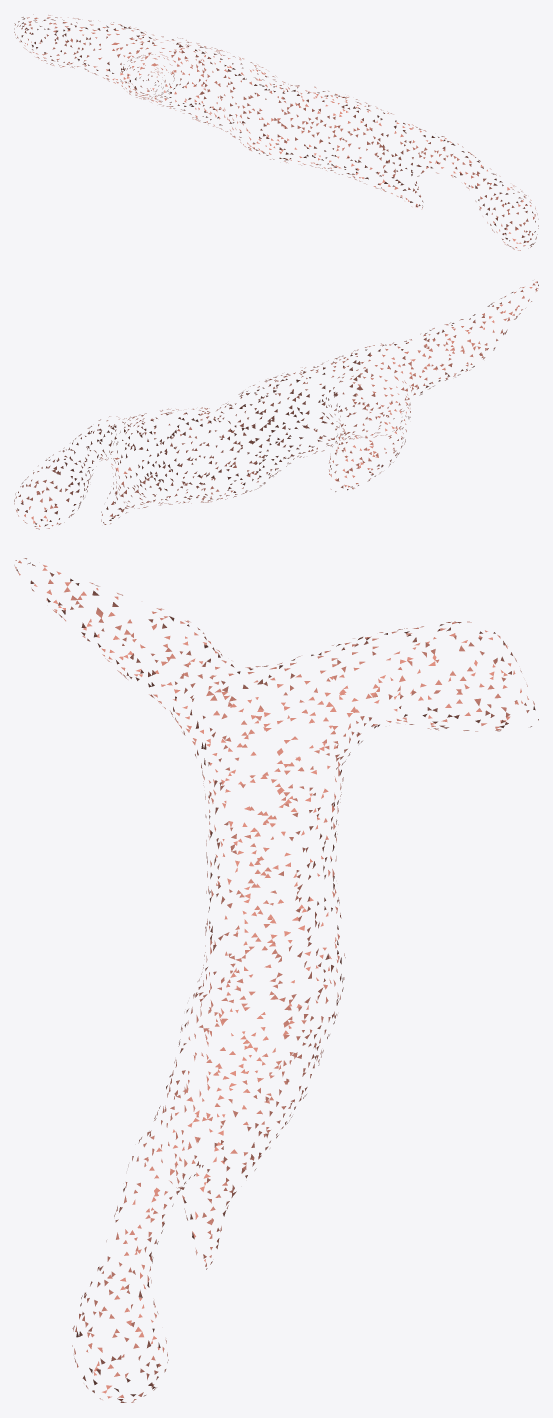
The model's file is morph_002.glb.
3 renders of one model, top to bottom at view 1: azimuth 30°, elevation 25°; view 2: azimuth 150°, elevation 25°; view 3: azimuth 270°, elevation 25°, orthographic. The views are drawn at different scales.
Bounding box in the file's own units: 93.57 × 61.04 × 57.54.
